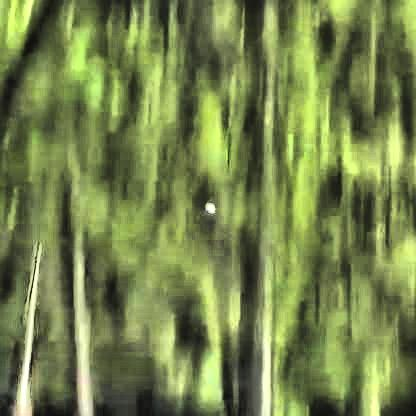golfball: (201, 196, 212, 212)
